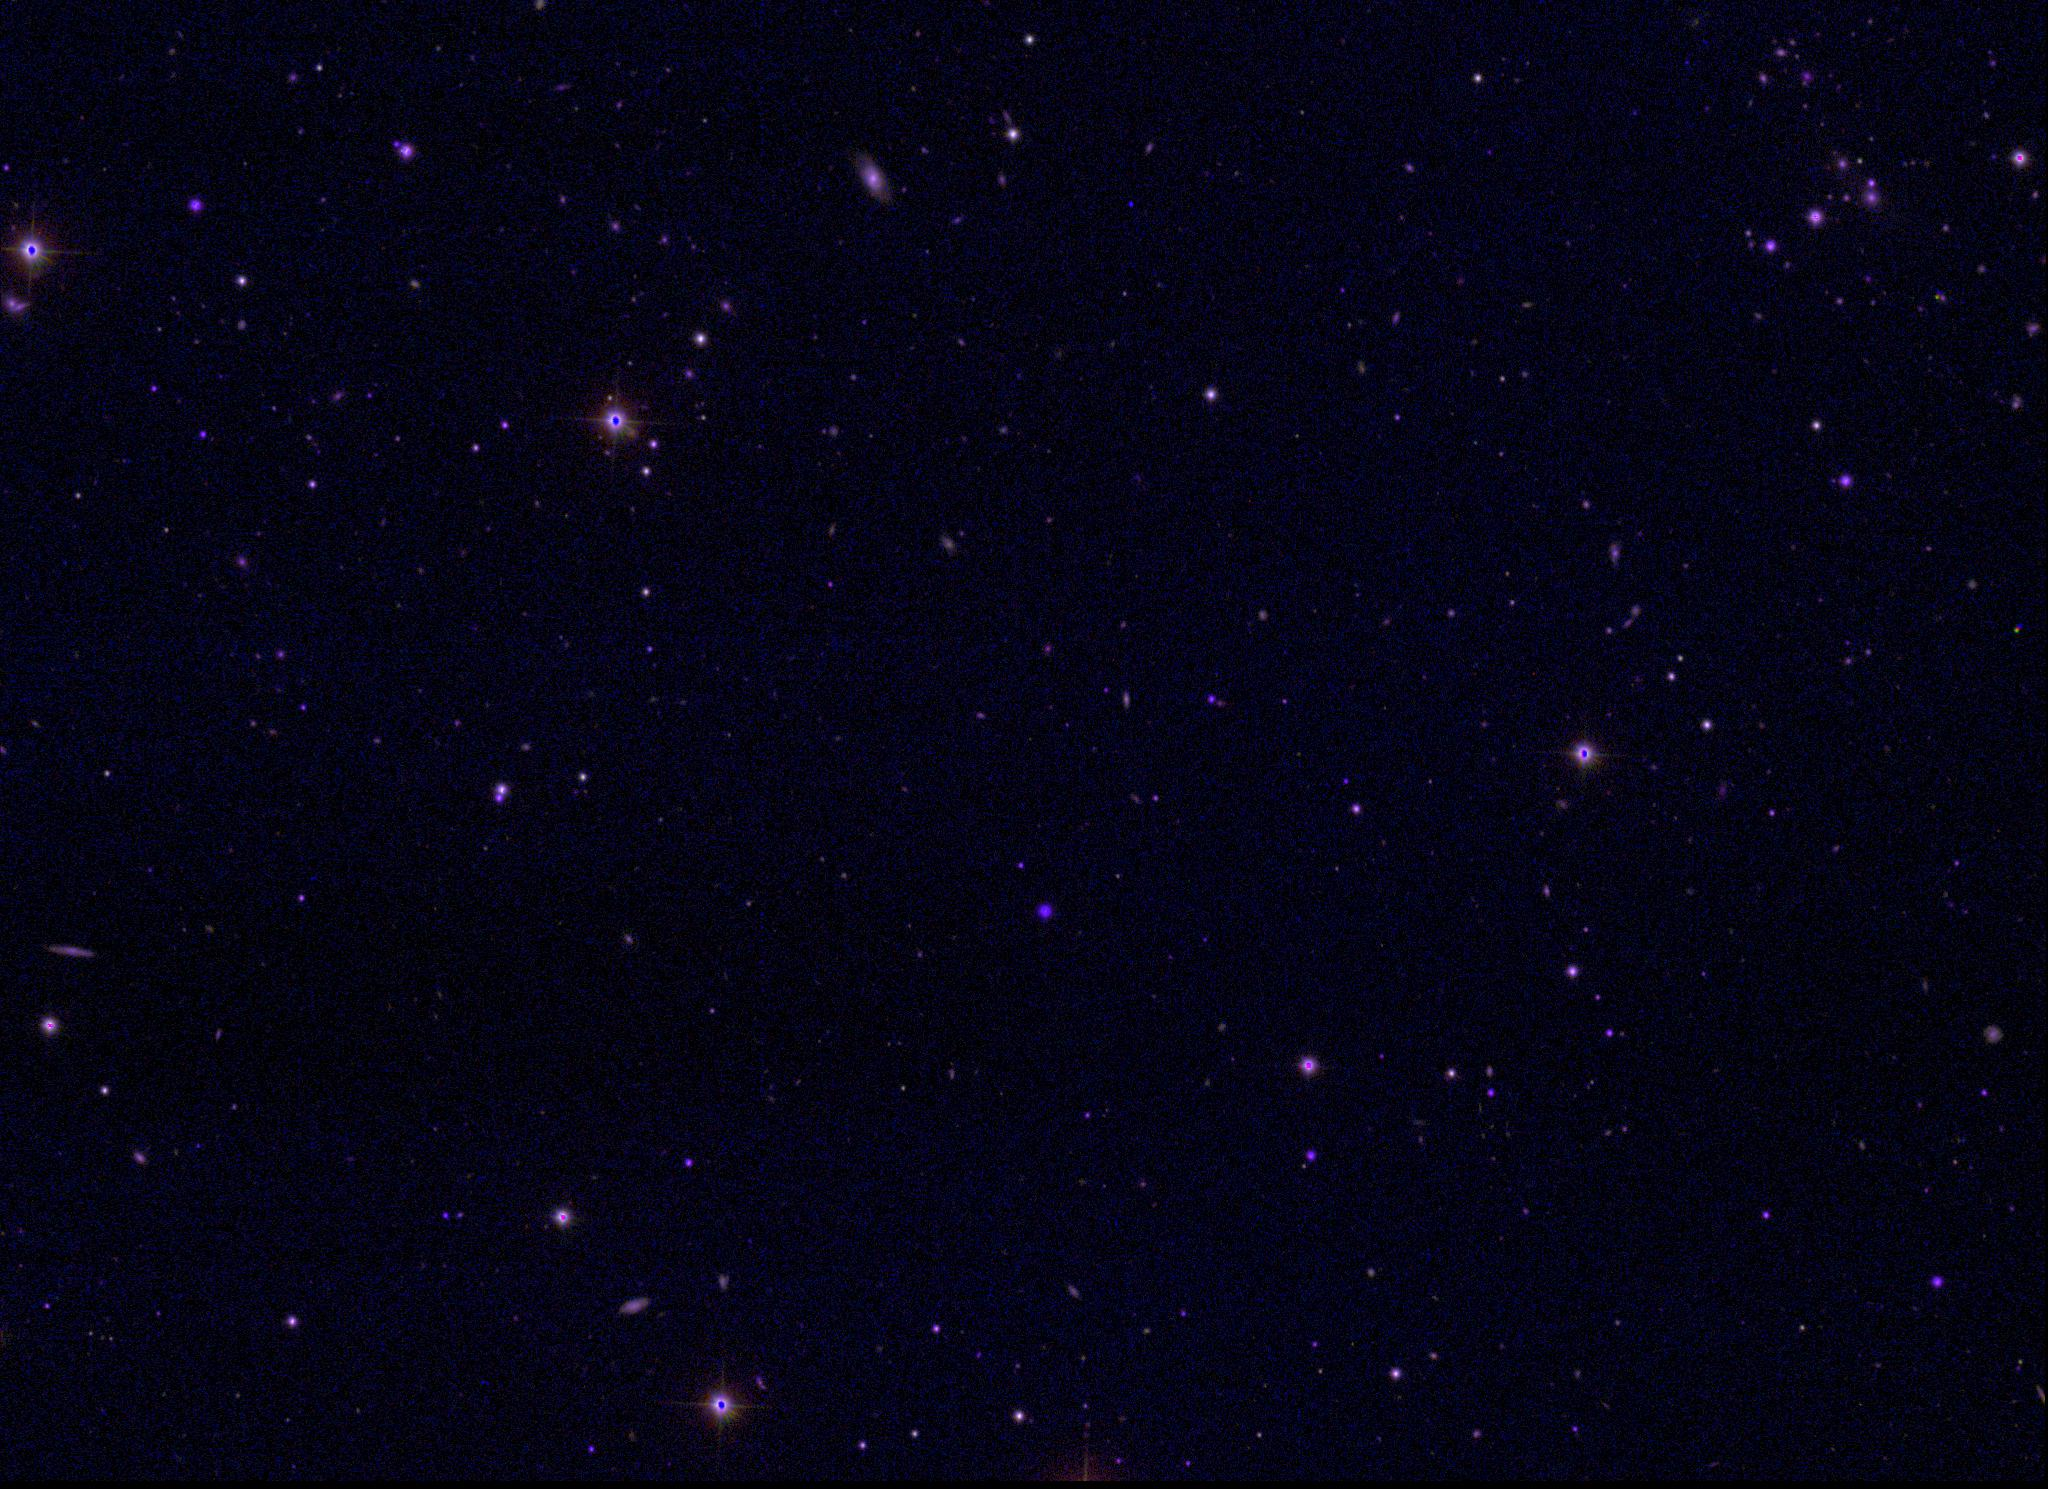L: (1124, 196, 1138, 210)
